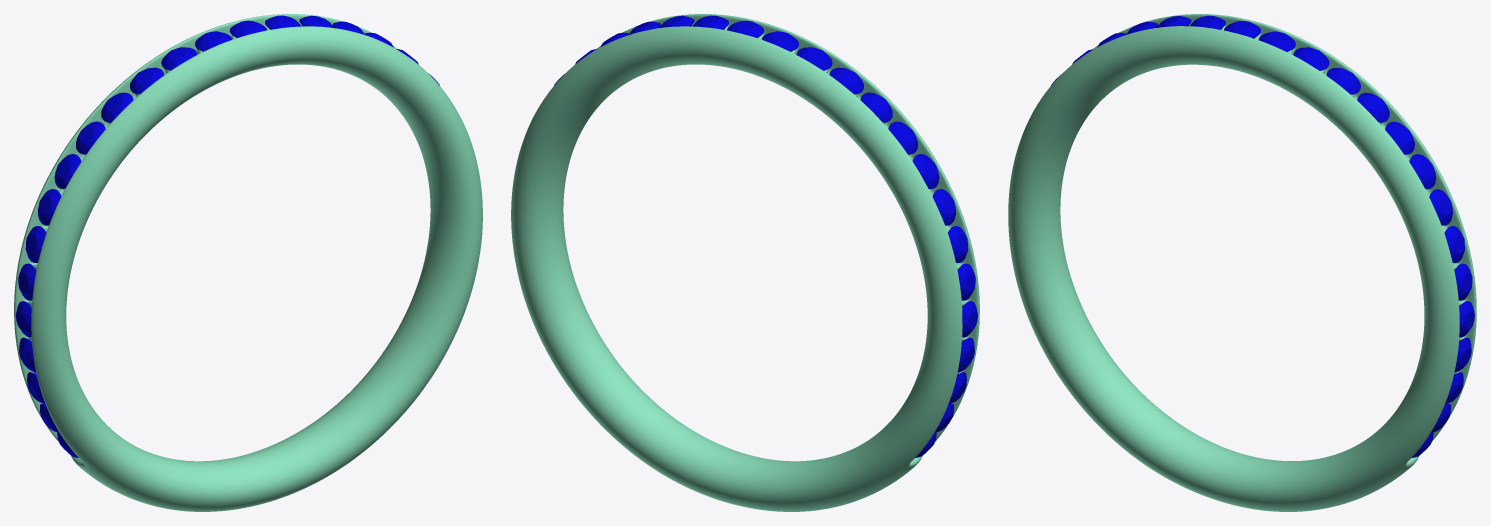
3 renders of one model, left to right at view 1: azimuth 30°, elevation 25°; view 2: azimuth 150°, elevation 25°; view 3: azimuth 330°, elevation 25°, orthographic.
Visible parts, largest first — view 1: Metal03, Diamond_Band.024, Diamond_Band.023, Diamond_Band.025, Diamond_Band.022, Diamond_Band.026, Diamond_Band.021, Diamond_Band.027; view 2: Metal03, Diamond_Band.024, Diamond_Band.023, Diamond_Band.025, Diamond_Band.022, Diamond_Band.026, Diamond_Band.021, Diamond_Band.027; view 3: Metal03, Diamond_Band.005, Diamond_Band.004, Diamond_Band.006, Diamond_Band.007, Diamond_Band.003, Diamond_Band.008, Diamond_Band.002.
Boxes of the visible parts, x1=… form: Metal03: x1=14, y1=14, x2=482, y2=511; Diamond_Band.024: x1=76, y1=121, x2=105, y2=154; Diamond_Band.023: x1=54, y1=154, x2=81, y2=188; Diamond_Band.025: x1=101, y1=92, x2=133, y2=122; Diamond_Band.022: x1=38, y1=189, x2=61, y2=225; Diamond_Band.026: x1=130, y1=67, x2=164, y2=94; Diamond_Band.021: x1=25, y1=226, x2=46, y2=263; Diamond_Band.027: x1=161, y1=47, x2=197, y2=70; Metal03: x1=511, y1=14, x2=979, y2=511; Diamond_Band.024: x1=888, y1=121, x2=917, y2=154; Diamond_Band.023: x1=912, y1=154, x2=939, y2=189; Diamond_Band.025: x1=860, y1=92, x2=892, y2=122; Diamond_Band.022: x1=932, y1=189, x2=955, y2=225; Diamond_Band.026: x1=829, y1=67, x2=863, y2=94; Diamond_Band.021: x1=948, y1=226, x2=968, y2=263; Diamond_Band.027: x1=796, y1=47, x2=832, y2=70; Metal03: x1=1008, y1=14, x2=1476, y2=511; Diamond_Band.005: x1=1385, y1=121, x2=1414, y2=154; Diamond_Band.004: x1=1357, y1=92, x2=1389, y2=122; Diamond_Band.006: x1=1409, y1=154, x2=1435, y2=189; Diamond_Band.007: x1=1429, y1=189, x2=1452, y2=225; Diamond_Band.003: x1=1326, y1=68, x2=1360, y2=94; Diamond_Band.008: x1=1444, y1=226, x2=1464, y2=263; Diamond_Band.002: x1=1293, y1=47, x2=1329, y2=70.
Bounding box in the file's own units: 21.12 × 21.21 × 2.48.
